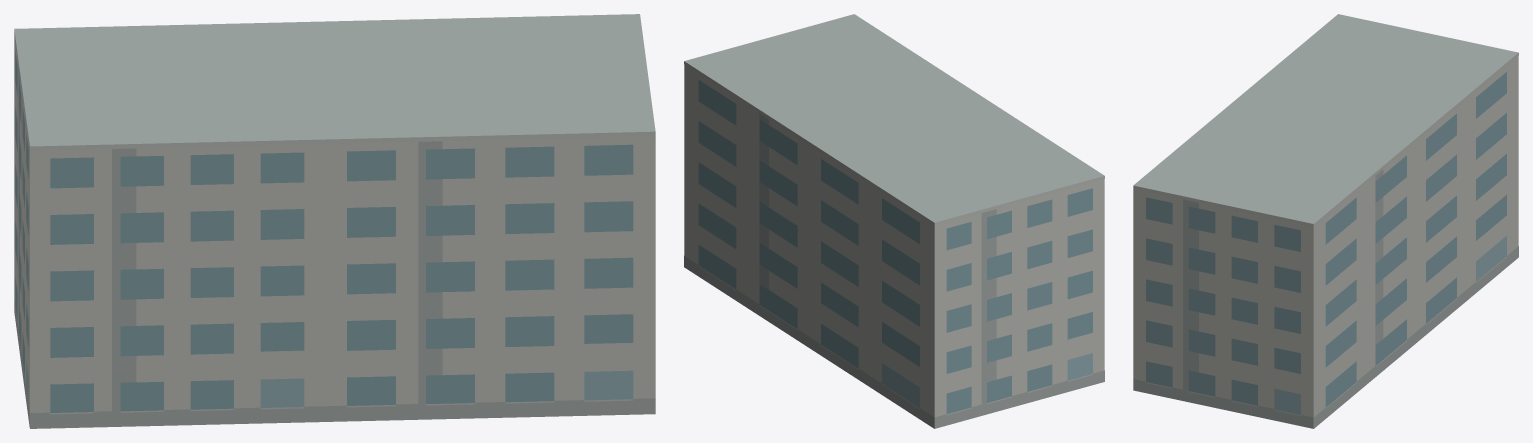
The model's file is residential-b16afc9e-e675-4182-9b07-b43d2dc04a58.glb.
The picture shows the model from 3 angles, left to right: view 1: azimuth 30°, elevation 25°; view 2: azimuth 150°, elevation 25°; view 3: azimuth 270°, elevation 25°; orthographic projection. The views are drawn at different scales.
Visible parts, largest first — view 1: residential-b16afc9e-e675-4182-9b07-b43d2dc04a58.tmp; view 2: residential-b16afc9e-e675-4182-9b07-b43d2dc04a58.tmp; view 3: residential-b16afc9e-e675-4182-9b07-b43d2dc04a58.tmp.
Part boxes in pixels (box(x1,y1,x2,y2)): residential-b16afc9e-e675-4182-9b07-b43d2dc04a58.tmp: box(14, 14, 655, 428); residential-b16afc9e-e675-4182-9b07-b43d2dc04a58.tmp: box(684, 14, 1104, 428); residential-b16afc9e-e675-4182-9b07-b43d2dc04a58.tmp: box(1133, 14, 1518, 428).
Bounding box in the file's own units: 33.53 × 15.25 × 26.01.
